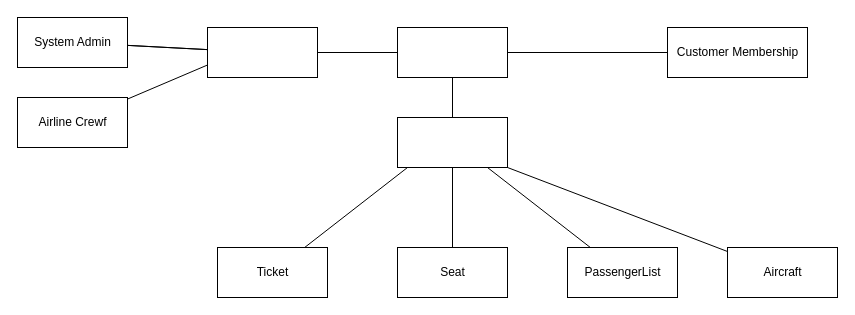
The diagram is 855 pixels wide and 315 high, and some of its shapes have lost their labels. Here are the shapes that lost their labels. From the top down, the centre of each, then its label:
At pixel 262 52: "Airline Staff".
At pixel 452 52: "Airline".
At pixel 452 142: "Flight".
